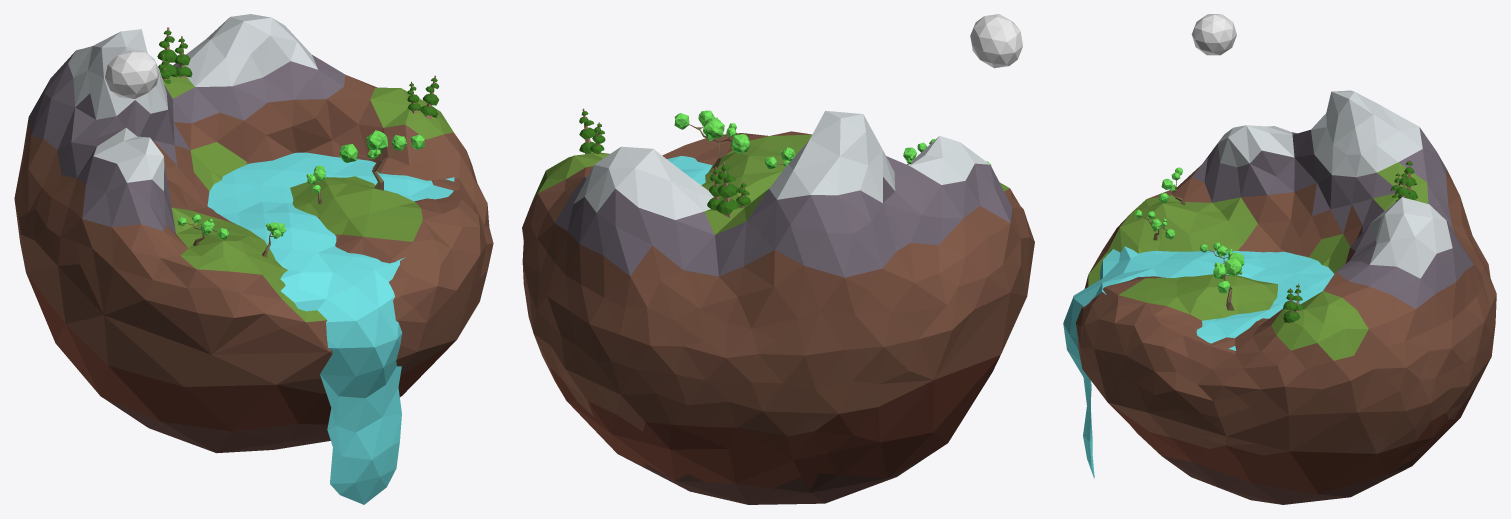
File: icosphere_world.glb
The picture shows the model from 3 angles, left to right: view 1: azimuth 30°, elevation 25°; view 2: azimuth 150°, elevation 25°; view 3: azimuth 270°, elevation 25°; orthographic projection. The views are drawn at different scales.
Visible parts, largest first — view 1: Icosphere, Plane, Icosphere.001, tree1; view 2: Icosphere, Icosphere.001, tree1, pinetree2.001, Plane; view 3: Icosphere, Plane, Icosphere.001, tree1.
Boxes of the visible parts, box(x1,y1,x2,y2) form: Icosphere: box(14, 14, 493, 453); Plane: box(207, 152, 454, 504); Icosphere.001: box(105, 50, 159, 99); tree1: box(339, 130, 424, 190); Icosphere: box(522, 110, 1034, 504); Icosphere.001: box(970, 14, 1022, 68); tree1: box(674, 110, 749, 174); pinetree2.001: box(716, 162, 739, 217); Plane: box(667, 156, 712, 185); Icosphere: box(1076, 90, 1496, 504); Plane: box(1063, 246, 1334, 478); Icosphere.001: box(1191, 14, 1236, 55); tree1: box(1213, 252, 1244, 310).
Bounding box in the file's own units: 19.75 × 20.13 × 19.76.
